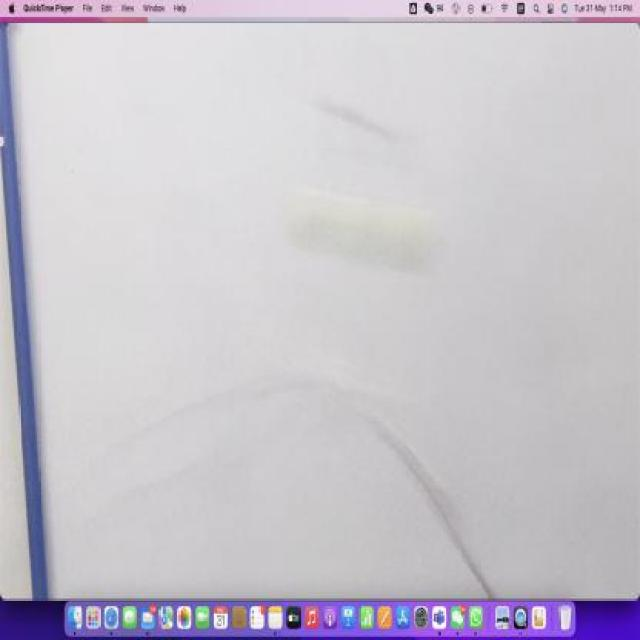baseball: (282, 175, 444, 278)
